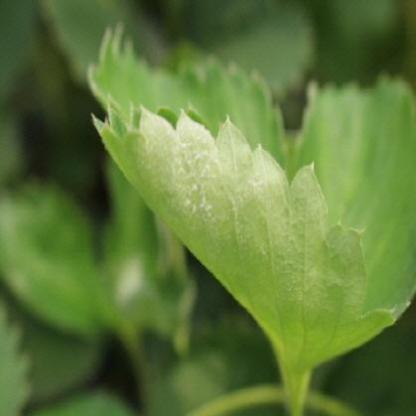Strawberry_Powdery_Mildew_Leaf: (90, 94, 396, 376)
